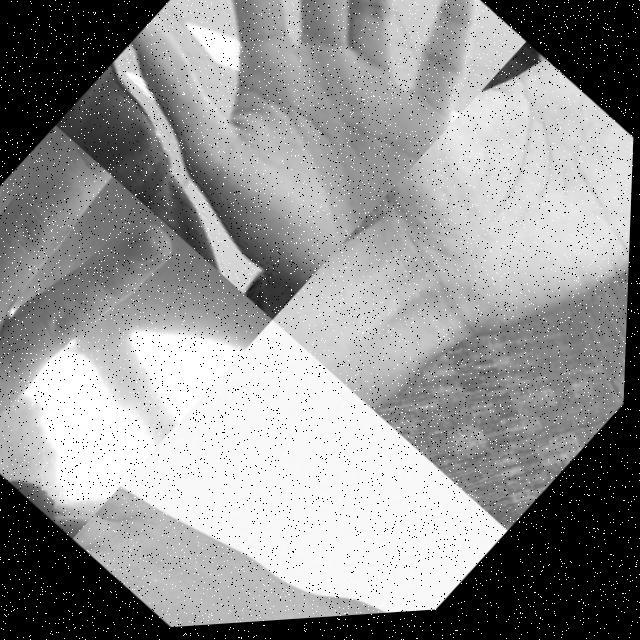no-gloves: (79, 0, 528, 303), (332, 43, 638, 444), (73, 408, 426, 635), (0, 117, 216, 485)
